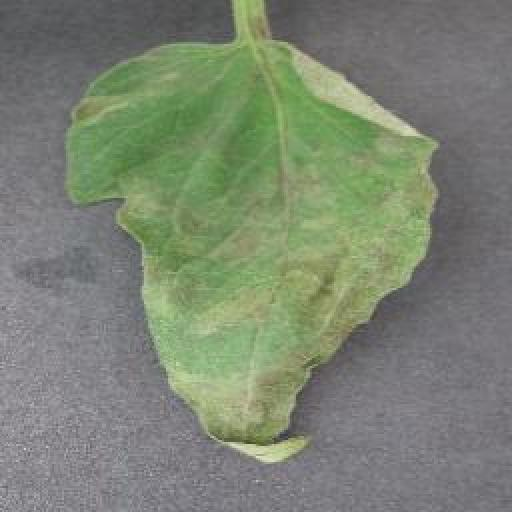disease_tomato: (59, 35, 436, 465)
